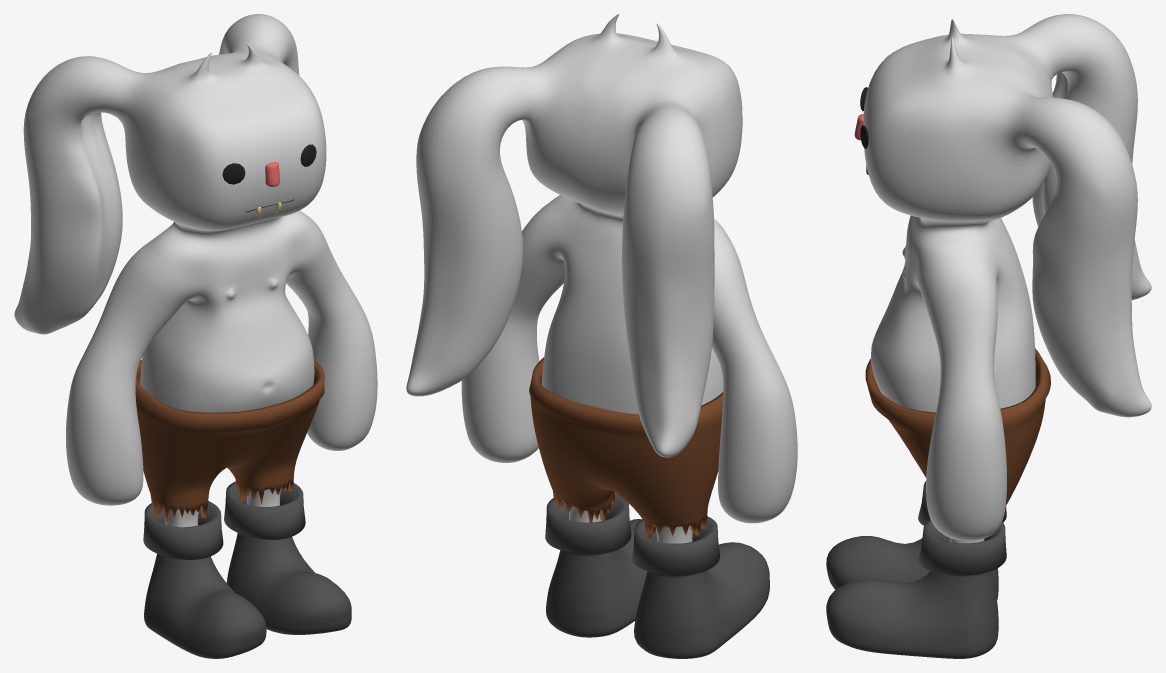
Rendered from Main Character colour trials.fbx.
3 renders of one model, left to right at view 1: azimuth 30°, elevation 25°; view 2: azimuth 150°, elevation 25°; view 3: azimuth 270°, elevation 25°, orthographic. The views are drawn at different scales.
Parts seen in each view (by area): view 1: Character, Boots, Pants, Eyes; view 2: Character, Boots, Pants; view 3: Character, Boots, Pants.
Boxes of the visible parts, <box> form: Character: <box>14,14,377,527</box>; Boots: <box>143,481,351,658</box>; Pants: <box>135,360,324,521</box>; Eyes: <box>222,144,316,184</box>; Character: <box>406,14,797,543</box>; Boots: <box>545,493,769,658</box>; Pants: <box>529,357,723,538</box>; Character: <box>863,14,1151,543</box>; Boots: <box>826,481,1006,658</box>; Pants: <box>865,348,1050,539</box>.
Size of the model in its own units: 121 by 219 by 109.
